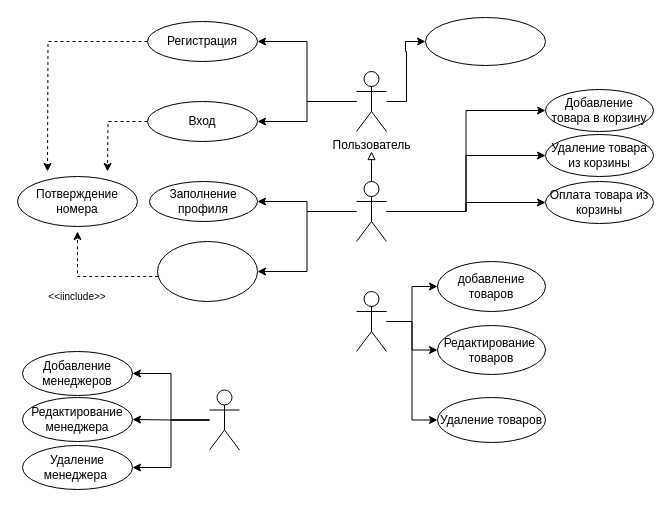
Some shapes in this 671 by 507 pixel diagram are drawn without their labels. The centre of each missing label's shape, as x and y in pixels:
"Администратор" goes at (224,419).
"Аутифицированный" goes at (371,211).
"Менеджер" goes at (371,321).
"Просматривание товаров" goes at (485,41).
"Редактирование пользователя" goes at (207,271).
